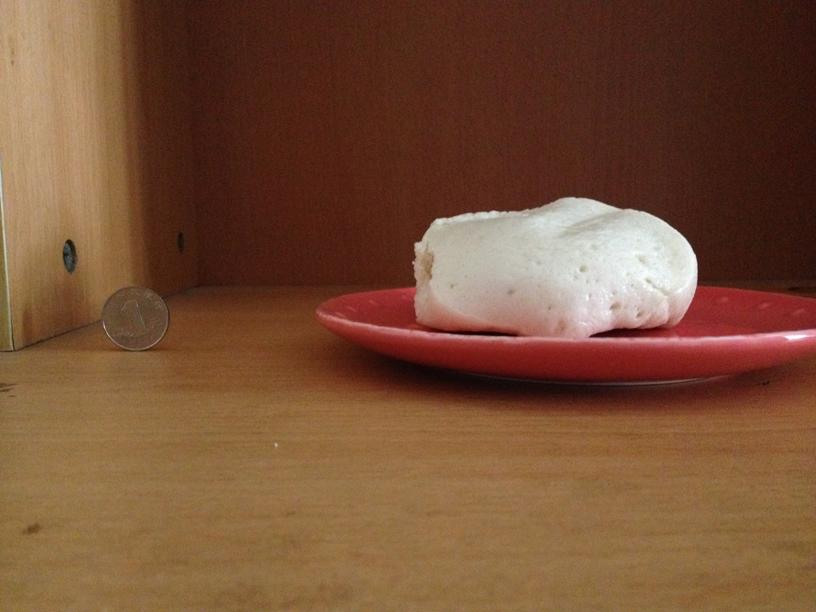bun: (414, 200, 699, 337)
coin: (96, 282, 169, 351)
